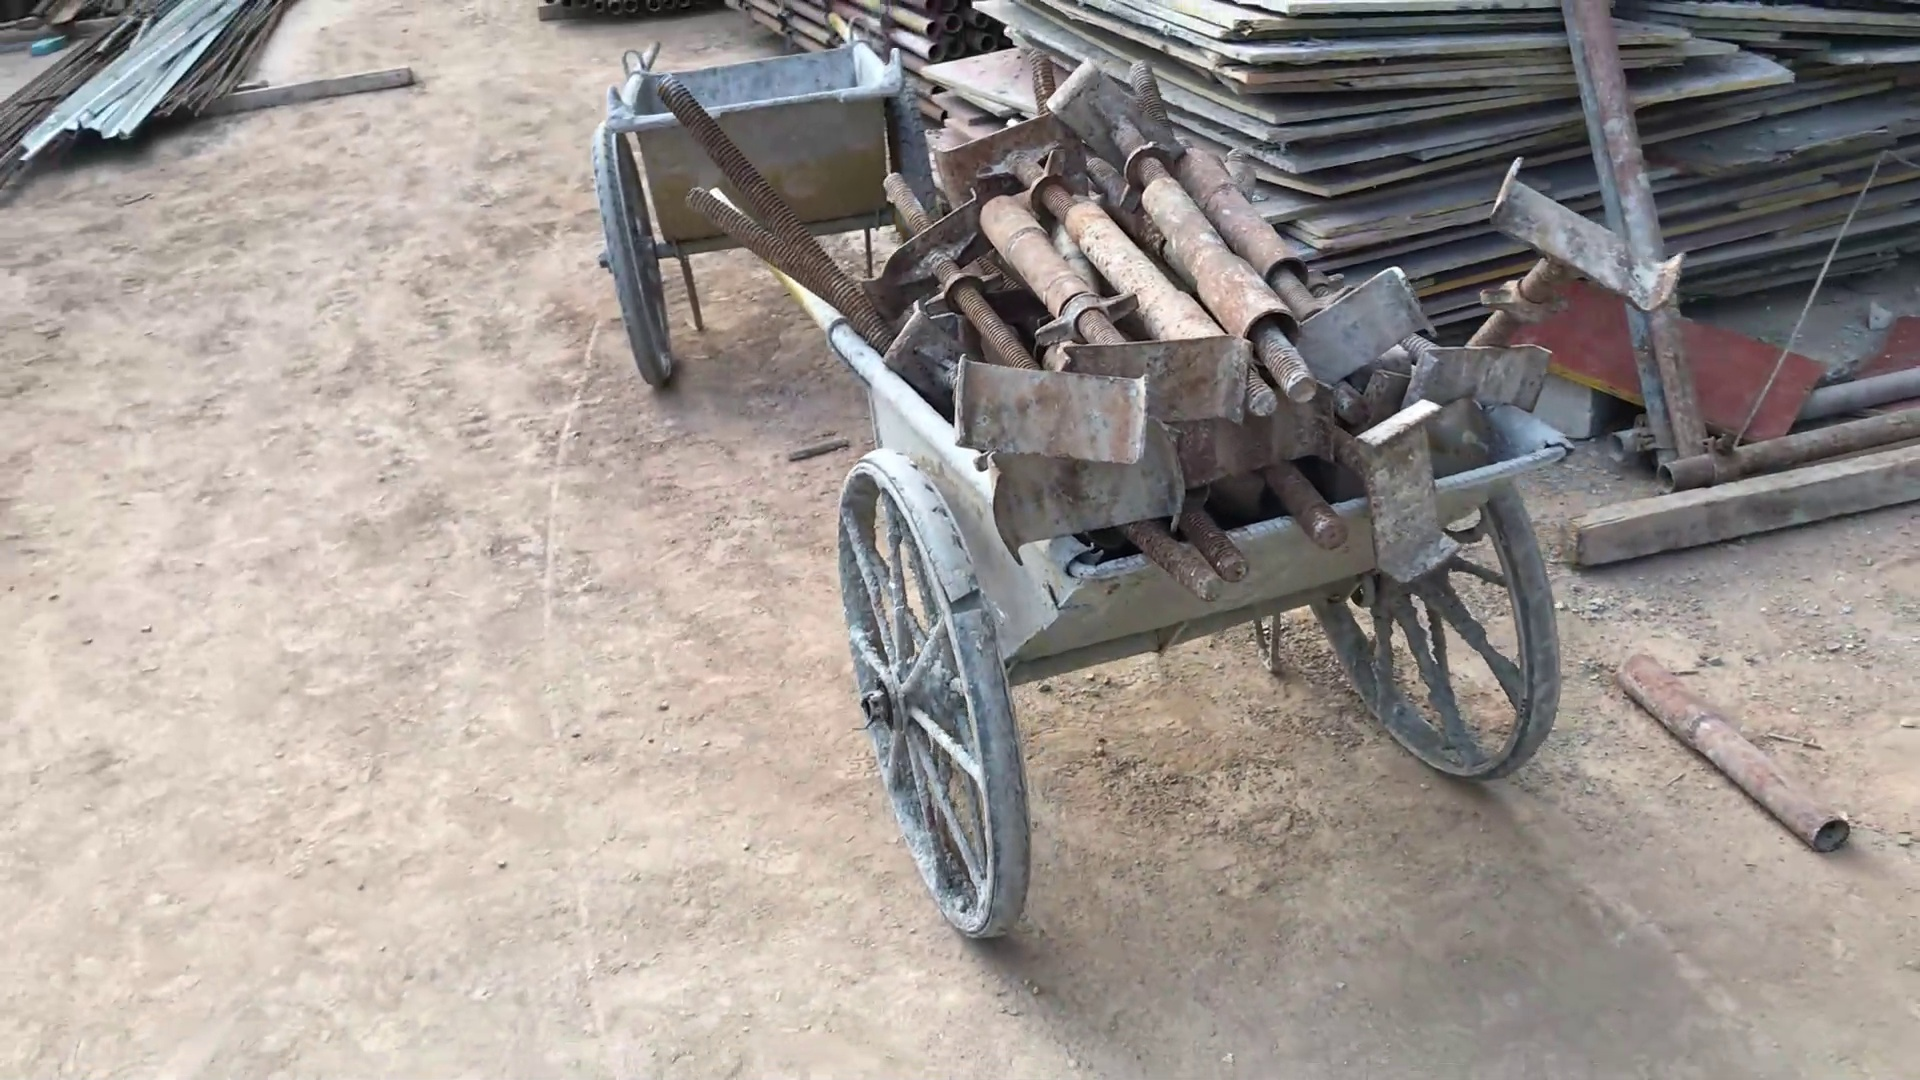board: (1007, 1, 1907, 371)
handcart: (771, 183, 1592, 957), (588, 36, 963, 396)
